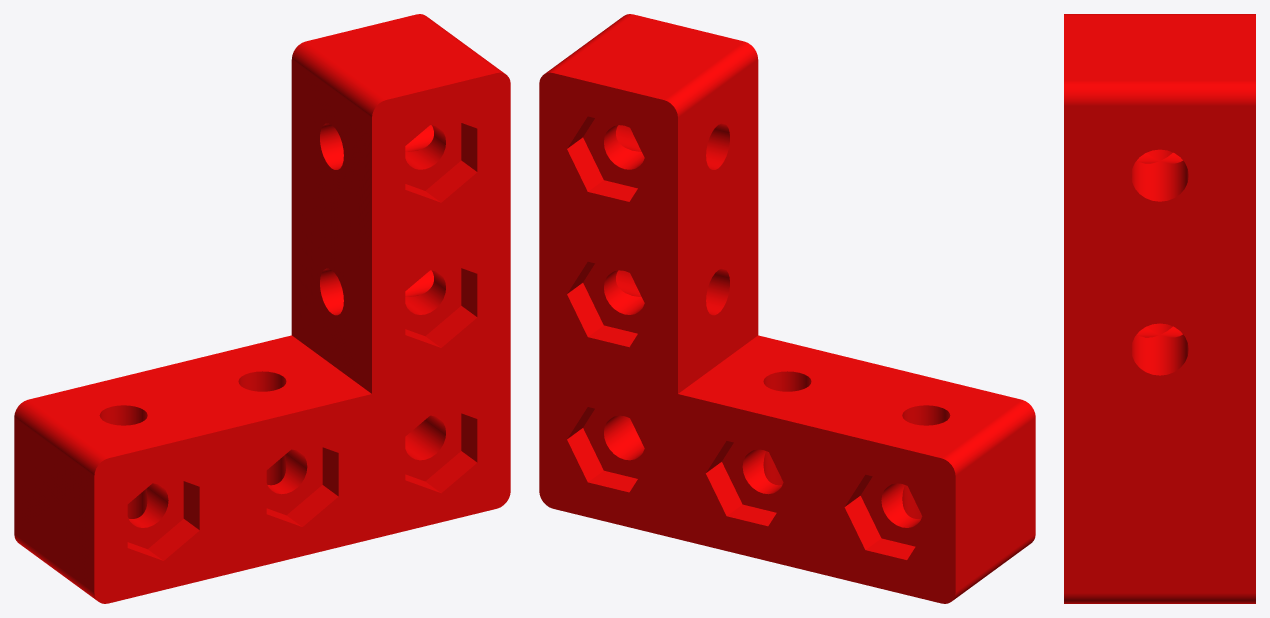
Rendered from L5N_red.glb.
3 views of the same model, side by side, from view 1: azimuth 30°, elevation 25°; view 2: azimuth 150°, elevation 25°; view 3: azimuth 270°, elevation 25° (orthographic). The views are drawn at different scales.
Parts seen in each view (by area): view 1: L5N_red; view 2: L5N_red; view 3: L5N_red.
Part boxes in pixels (x1,y1,x2,y2): L5N_red: (14,14,510,603); L5N_red: (539,14,1035,603); L5N_red: (1064,14,1255,603).
Size of the model in its own units: 0.03 by 0.03 by 0.01.
